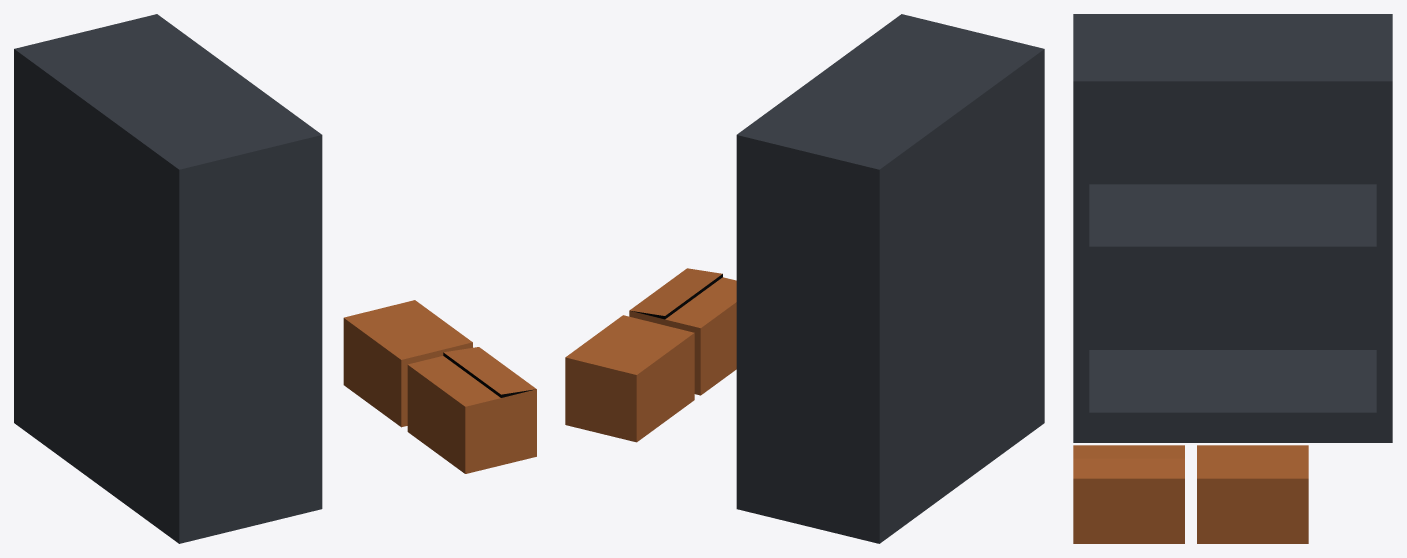
Rendered from Cosas4.fbx.
3 renders of one model, left to right at view 1: azimuth 30°, elevation 25°; view 2: azimuth 150°, elevation 25°; view 3: azimuth 270°, elevation 25°, orthographic. The views are drawn at different scales.
Parts seen in each view (by area): view 1: Biblioteque, Caja, Caja2; view 2: Biblioteque, Caja2, Caja; view 3: Biblioteque, Caja, Caja2.
Part boxes in pixels (<box>): Biblioteque: <box>14,14,322,543</box>; Caja: <box>407,347,536,473</box>; Caja2: <box>343,300,472,427</box>; Biblioteque: <box>736,14,1044,543</box>; Caja2: <box>565,315,694,442</box>; Caja: <box>629,268,736,395</box>; Biblioteque: <box>1073,14,1392,442</box>; Caja: <box>1073,445,1184,543</box>; Caja2: <box>1197,445,1308,543</box>.
Bounding box in the file's own units: 250 × 250 × 200.
Materials: 2 (2 with a texture image).
